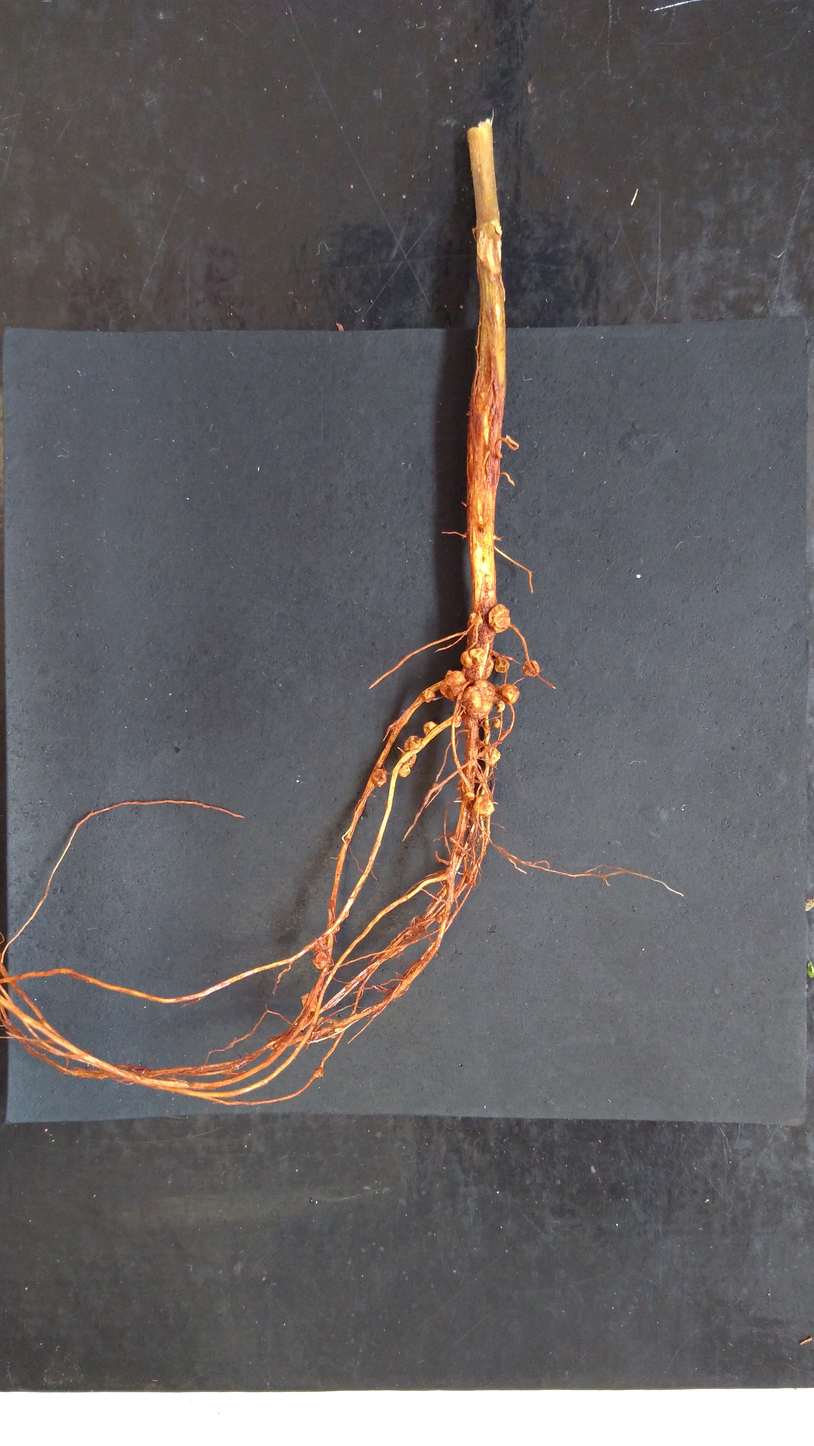nodule: (462, 677, 497, 719), (439, 669, 467, 703), (486, 602, 512, 635), (471, 794, 497, 817), (498, 683, 521, 705), (521, 659, 542, 678), (469, 647, 488, 668), (371, 767, 388, 788), (311, 949, 327, 971), (421, 719, 439, 737), (399, 751, 417, 769), (494, 656, 511, 675), (301, 992, 317, 1011), (403, 734, 421, 750), (488, 745, 501, 765), (458, 650, 472, 668), (469, 612, 484, 628), (422, 689, 437, 705), (492, 700, 508, 714), (397, 763, 411, 779), (311, 1066, 326, 1080), (490, 718, 503, 730), (463, 790, 475, 801), (452, 715, 462, 728)
